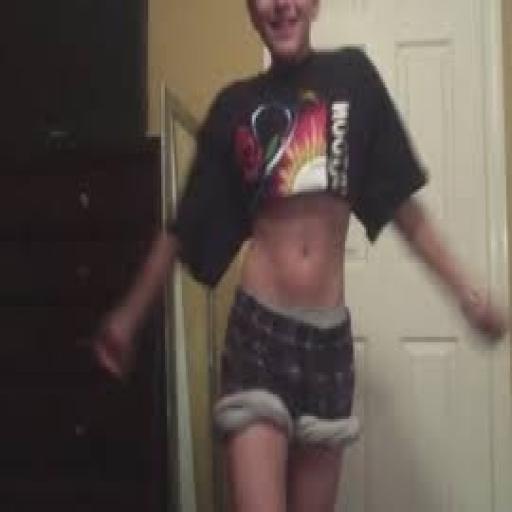dancing: (91, 0, 510, 509)
